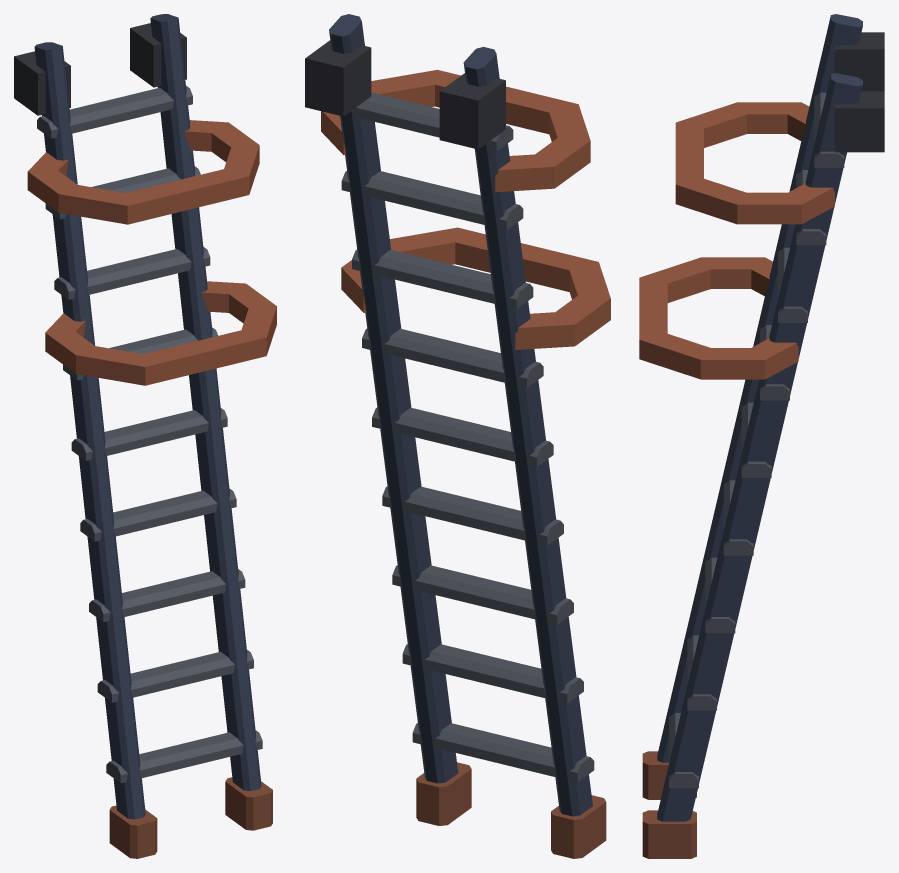
Rendered from access-ladder-dcc590.glb.
The picture shows the model from 3 angles, left to right: view 1: azimuth 30°, elevation 25°; view 2: azimuth 150°, elevation 25°; view 3: azimuth 270°, elevation 25°; orthographic projection. The views are drawn at different scales.
Visible parts, largest first — view 1: access-ladder-body; view 2: access-ladder-body; view 3: access-ladder-body.
Part boxes in pixels (bbox=[...]): access-ladder-body: bbox=[14, 14, 276, 858]; access-ladder-body: bbox=[305, 14, 610, 858]; access-ladder-body: bbox=[639, 14, 884, 858].
Size of the model in its own units: 0.85 by 3 by 0.8607.
